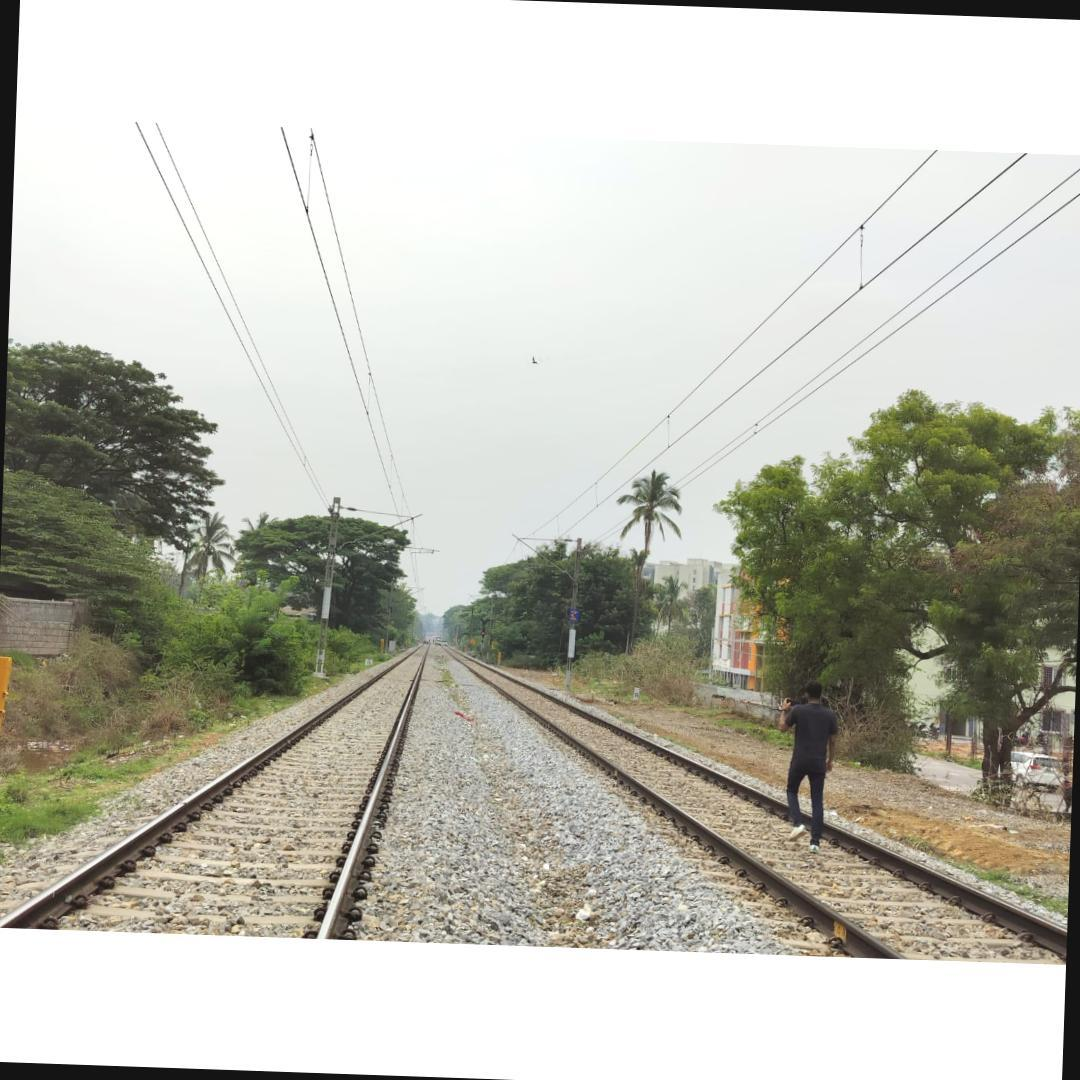standing: (775, 679, 841, 863)
track: (427, 640, 1067, 960), (0, 638, 431, 939)
